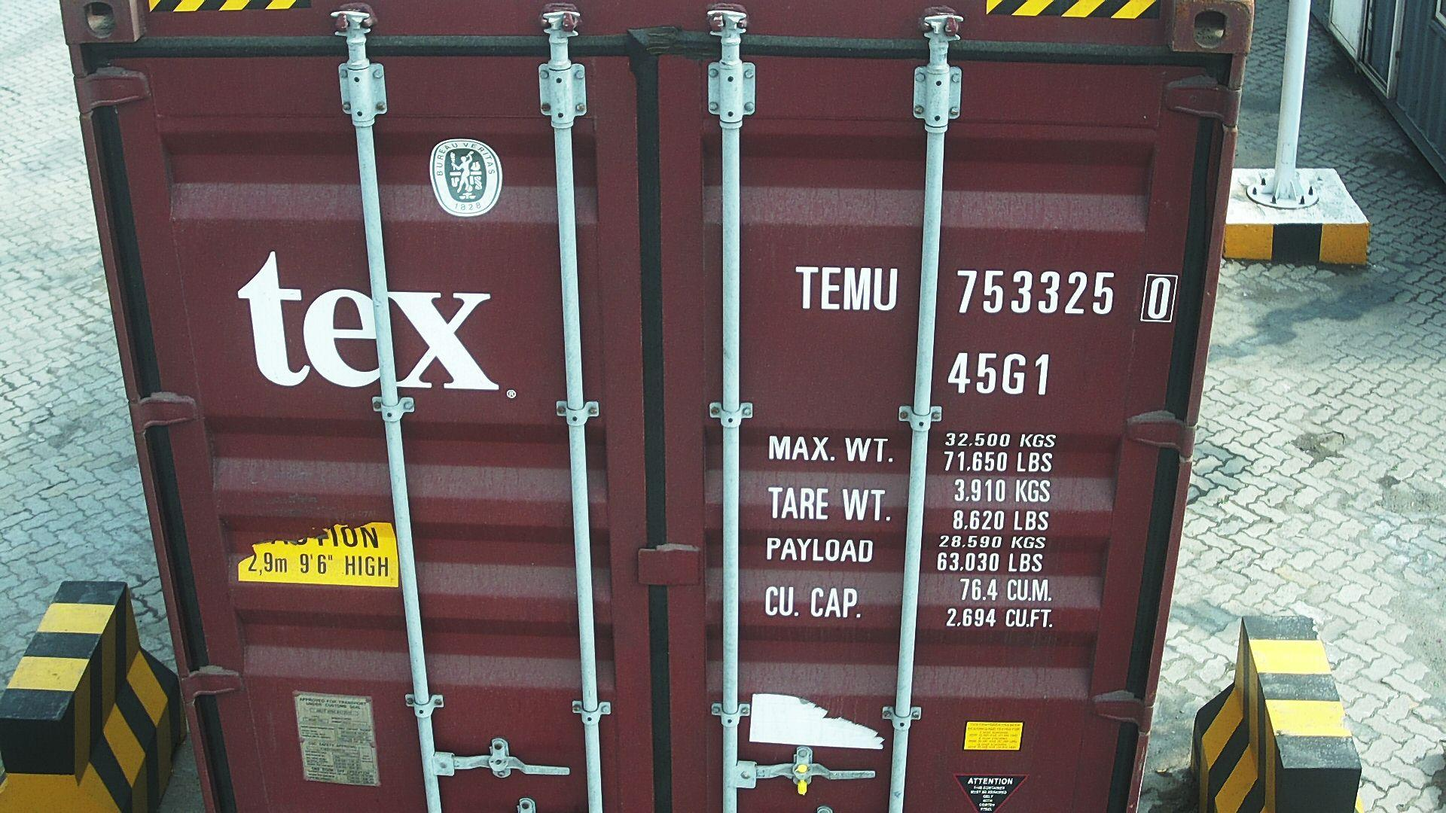container-numbers: (792, 262, 1182, 324), (944, 348, 1056, 398)
